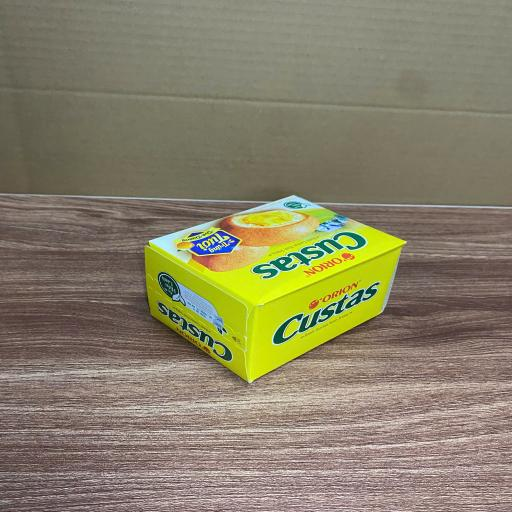custas: (144, 195, 407, 384)
